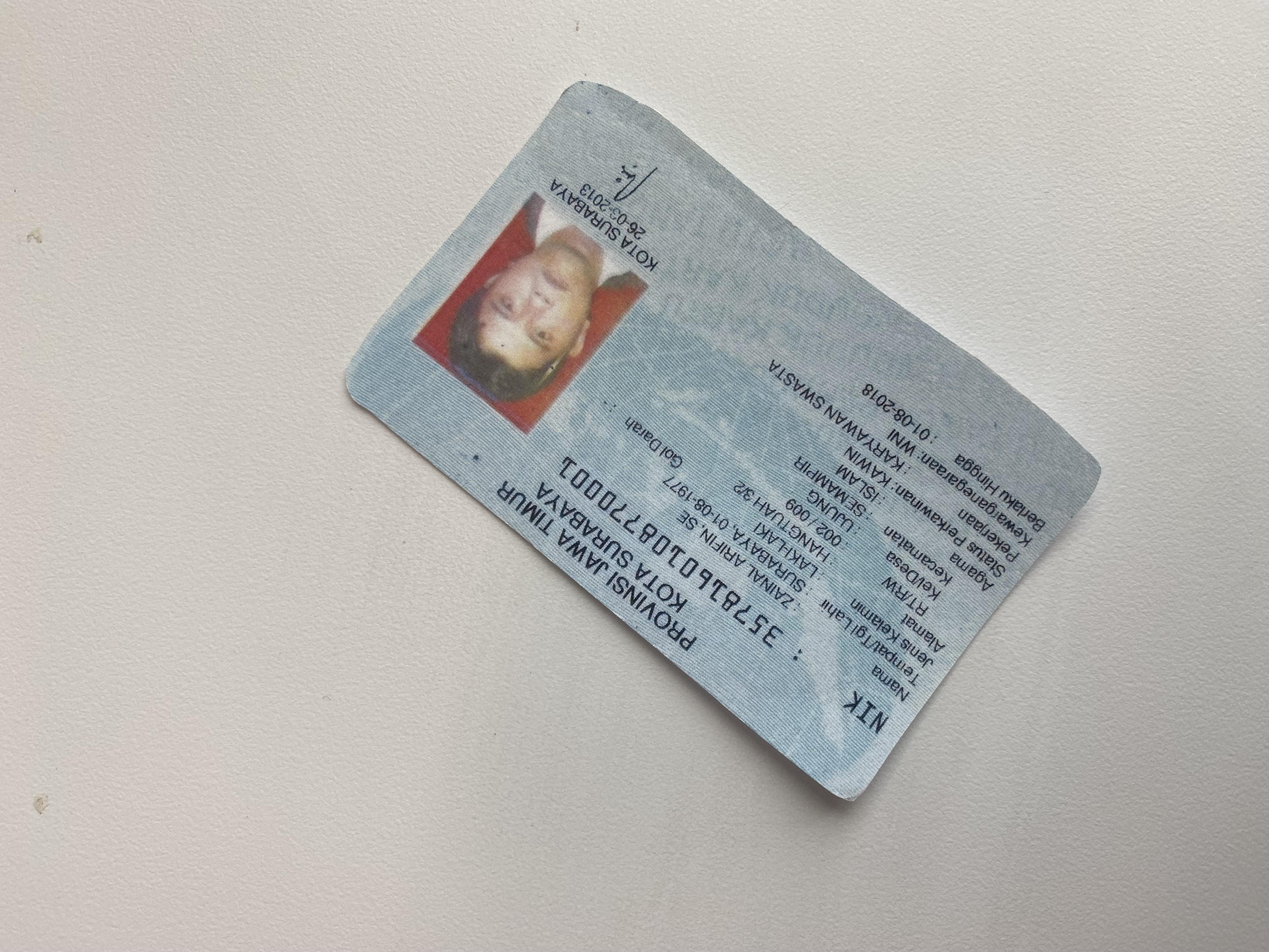ID-card: (180, 255, 1181, 832)
